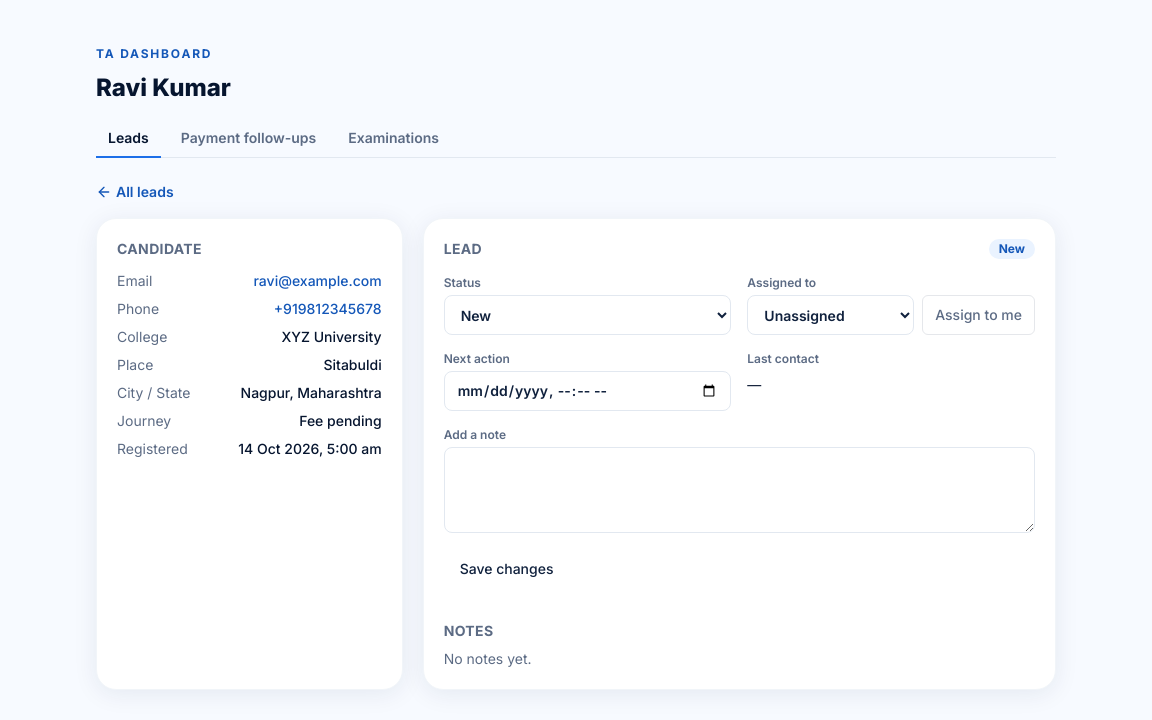
Test: Lead detail (US8) › saves changed fields and a note
This screenshot has width=1152, height=720.
Select "Assigned" in the dropdown labelled "Status" at point(588, 315), box [444,295,731,335]
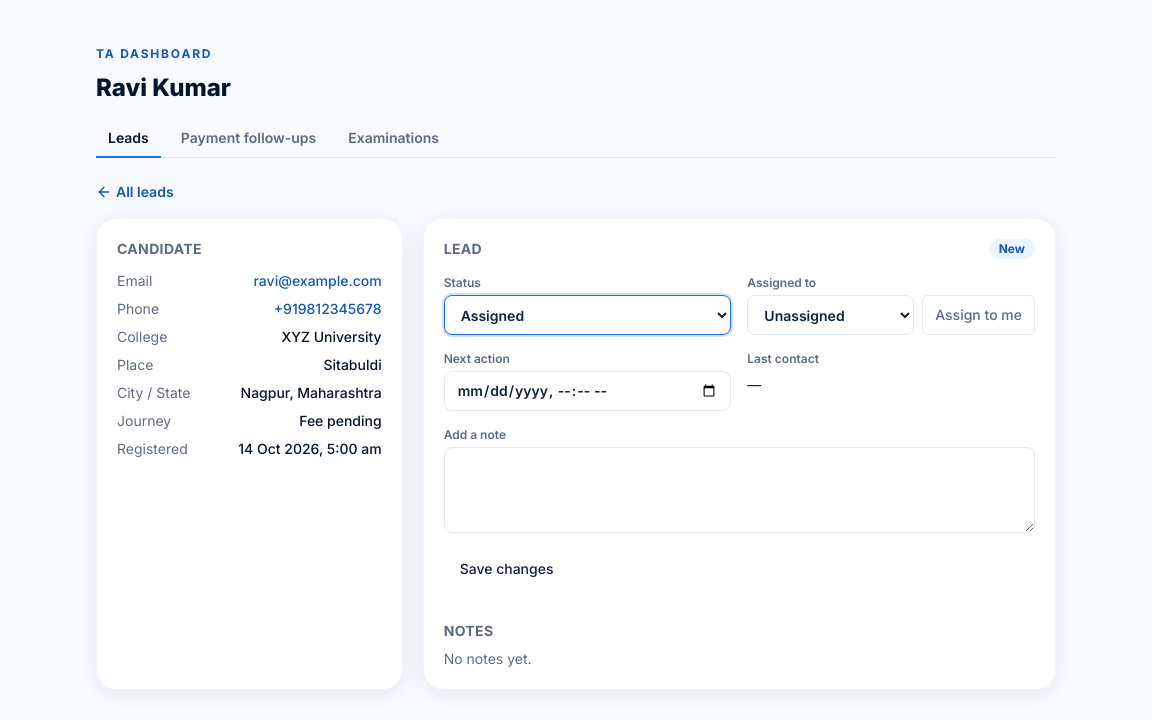
Select "Neha TA" in the dropdown labelled "Assigned to" at point(831, 315), box [747,295,914,335]
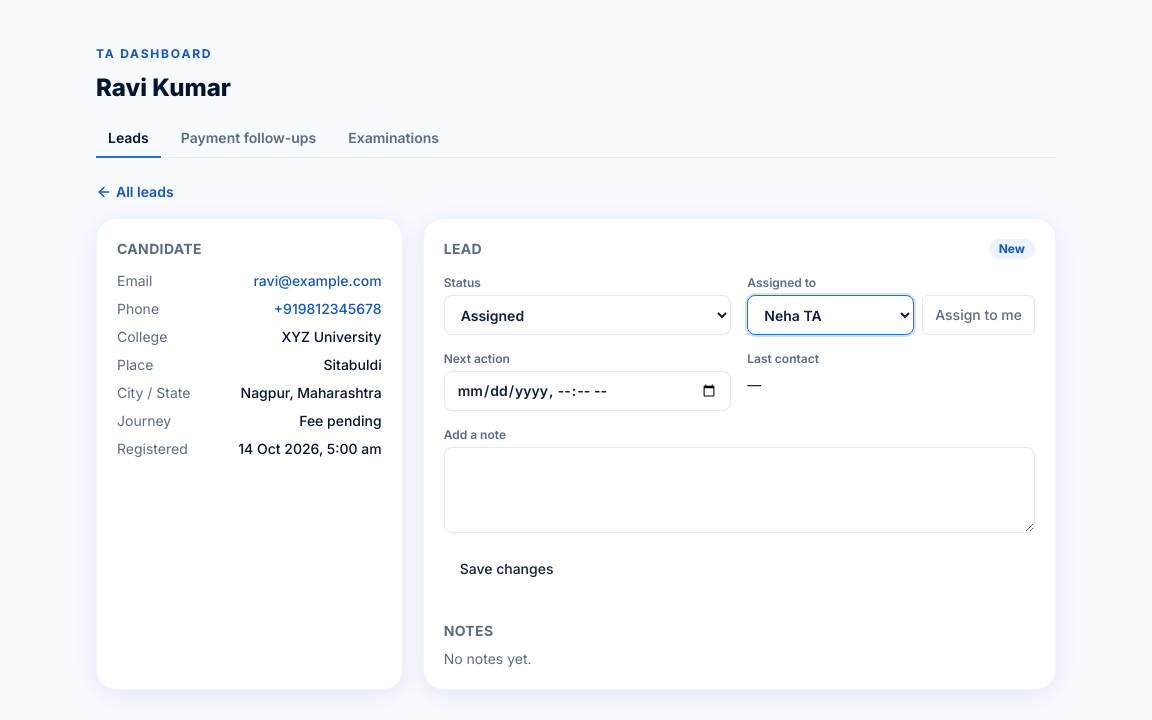
Type "Called, will pay tomorrow" into the text box labelled "Add a note" at point(739, 490), box [444,447,1035,533]
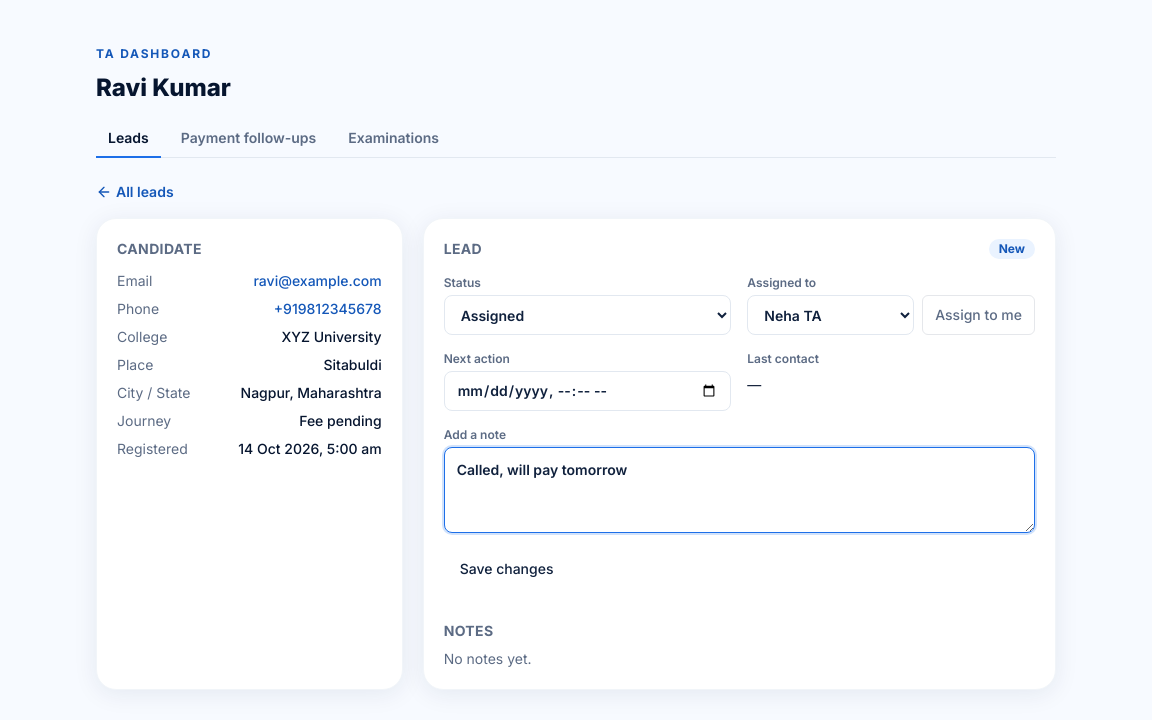
Click the button "Save changes" at point(507, 569), box [444,549,570,589]
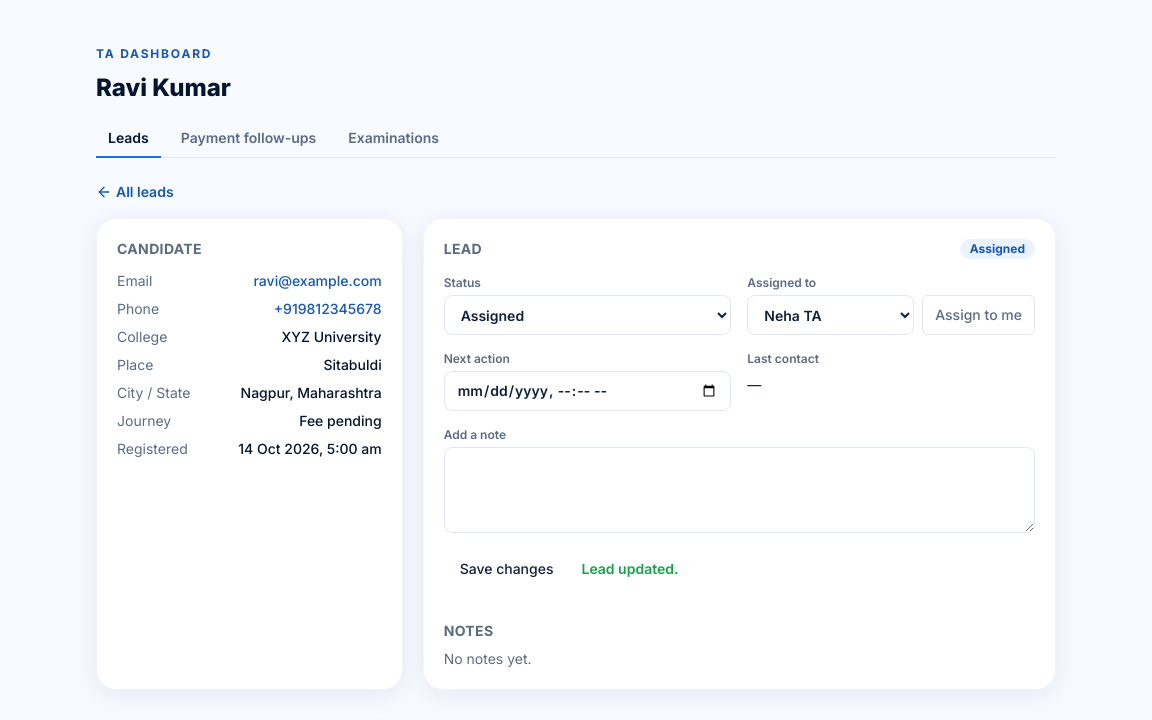
Expected: the text "Lead updated." is shown, [582,559,678,579]
